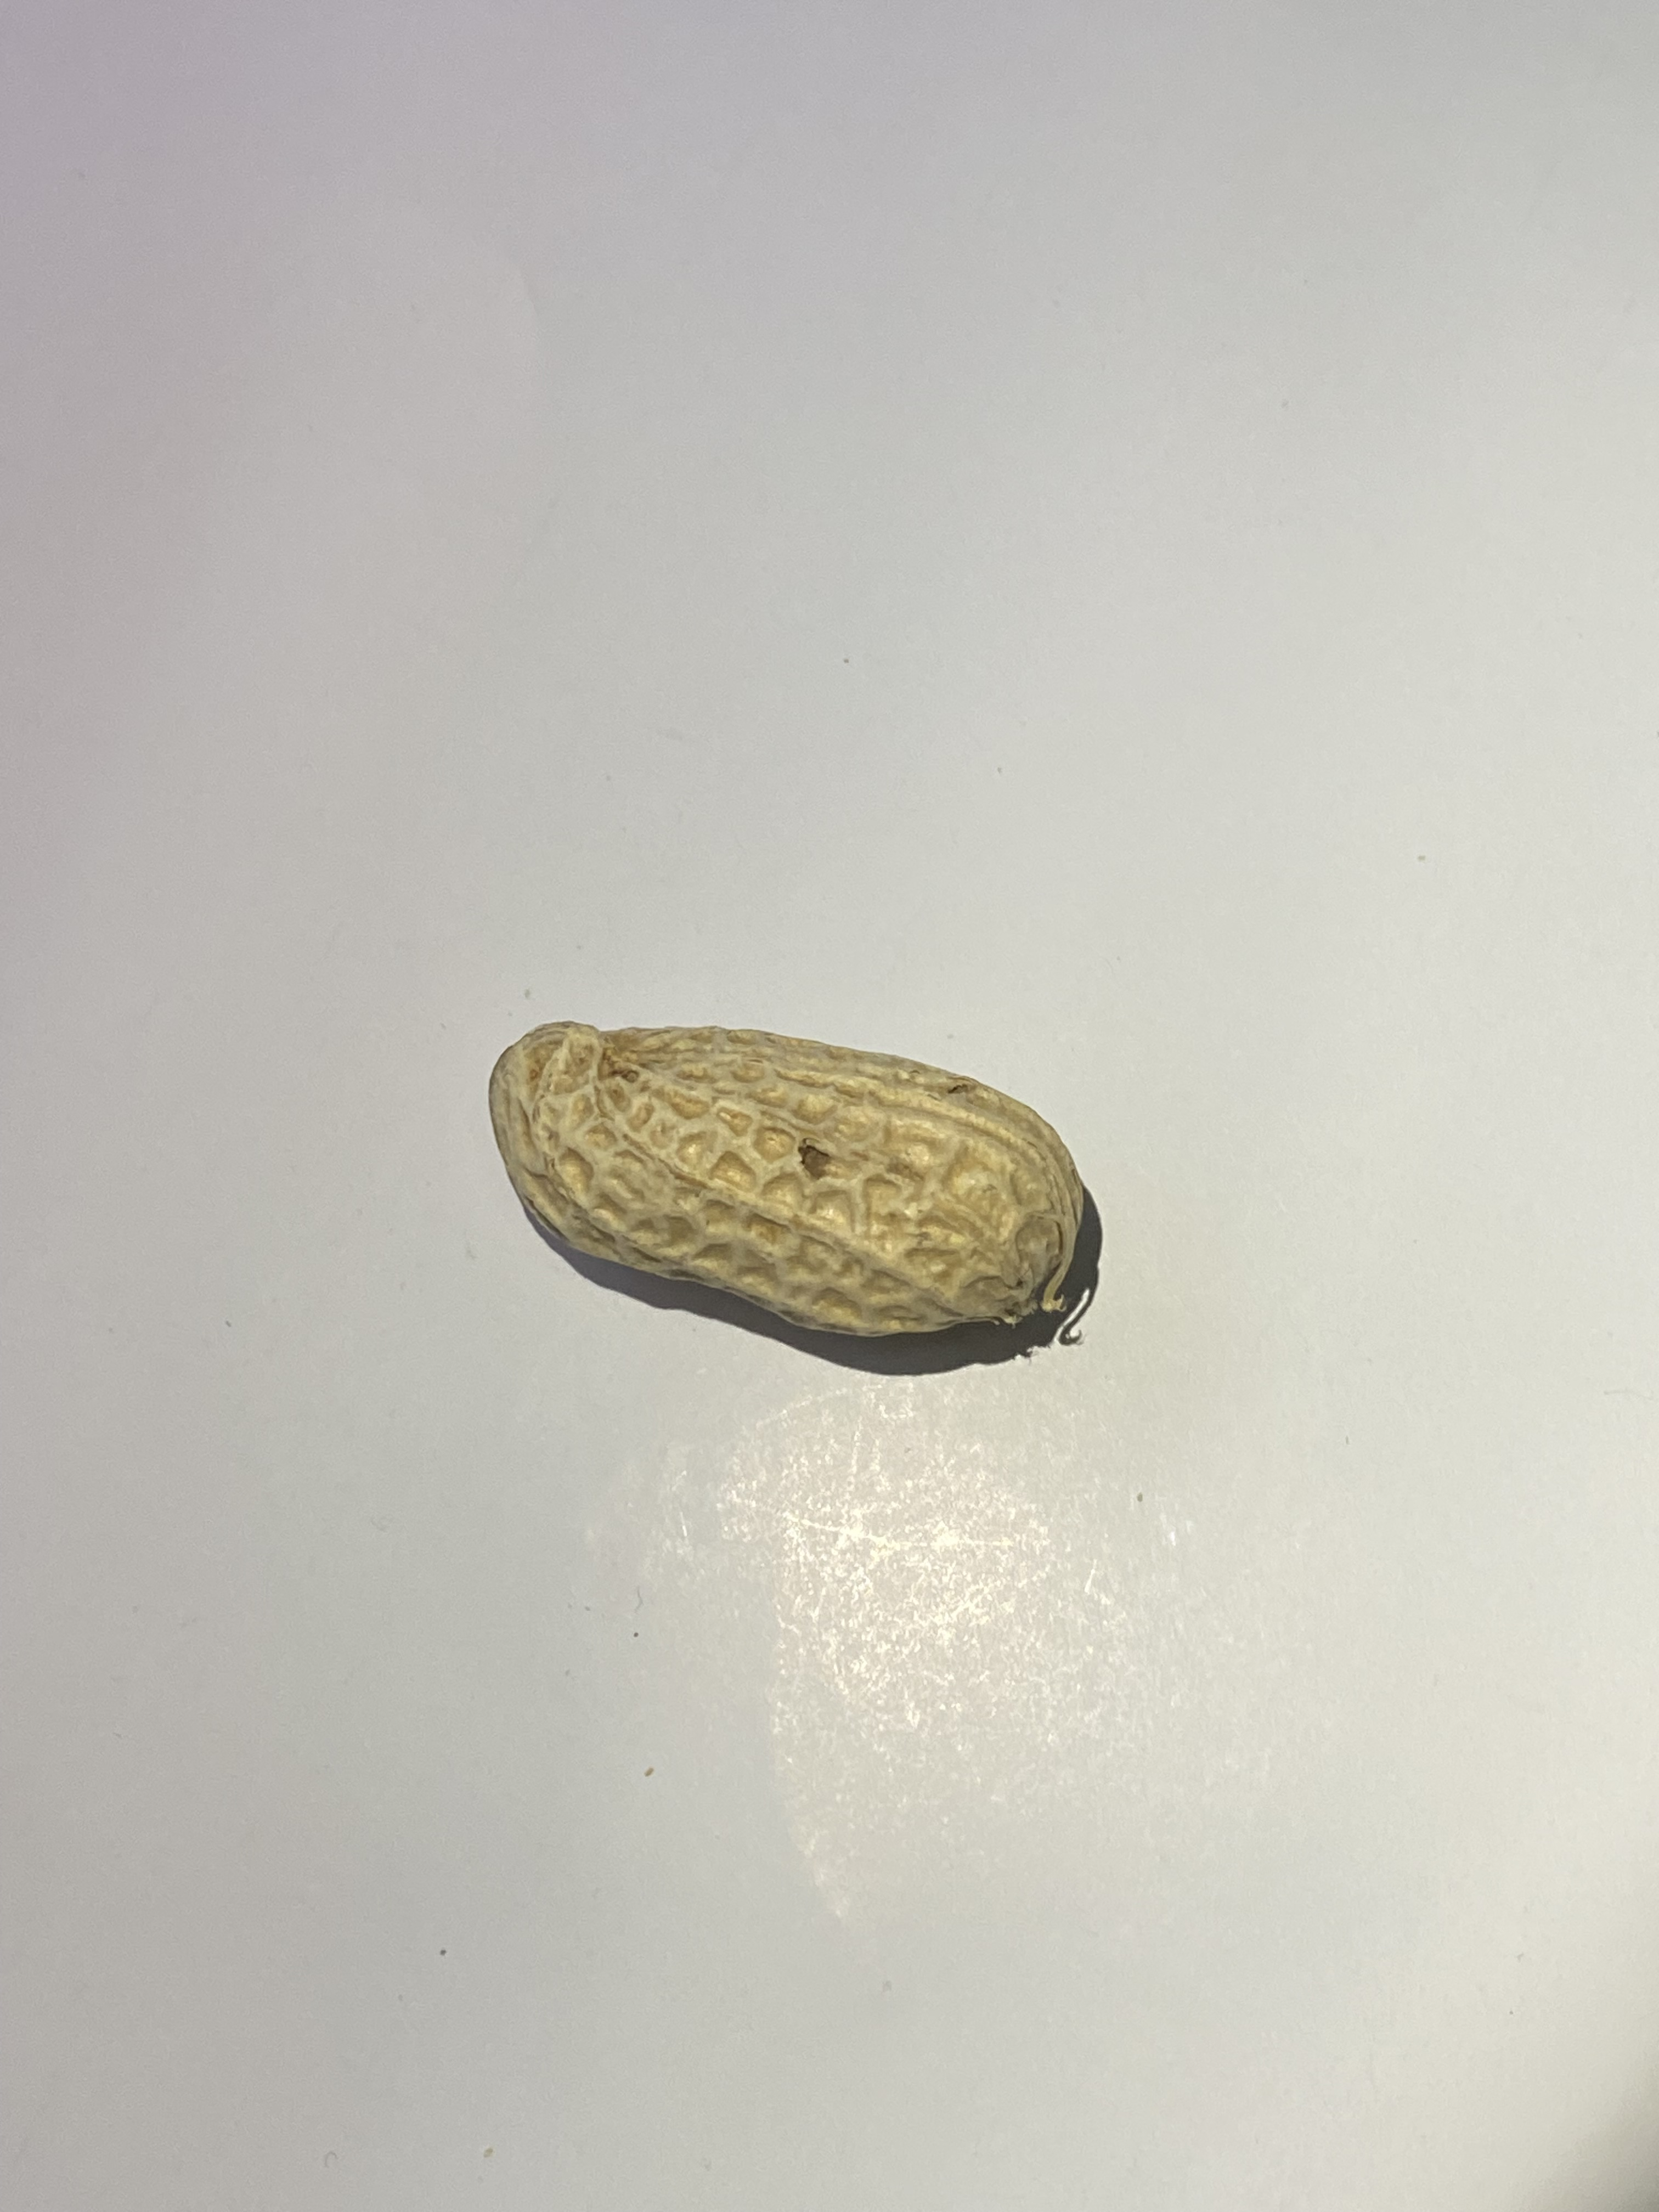kacang2: (481, 986, 1098, 1350)
